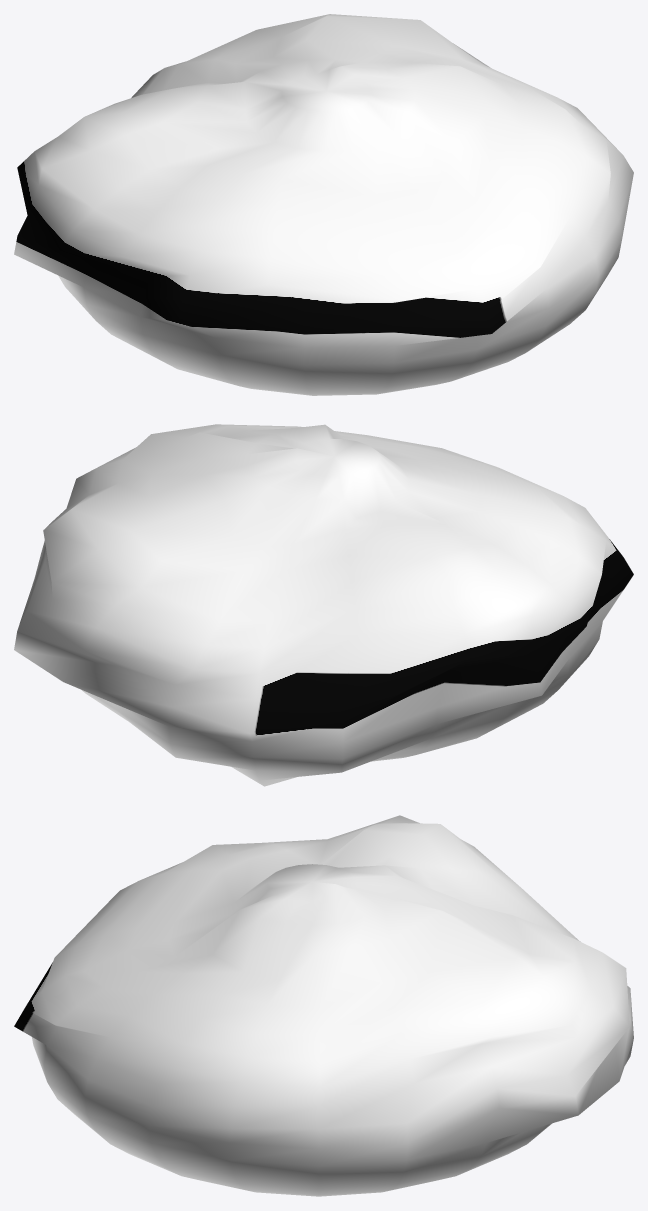
Rendered from catfoodforbowl.fbx.
The picture shows the model from 3 angles, top to bottom: view 1: azimuth 30°, elevation 25°; view 2: azimuth 150°, elevation 25°; view 3: azimuth 270°, elevation 25°; orthographic projection.
Visible parts, largest first — view 1: pSphere1; view 2: pSphere1; view 3: pSphere1.
Boxes of the visible parts, x1,y1,x2,y2 form: pSphere1: (14, 14, 633, 395); pSphere1: (14, 424, 633, 786); pSphere1: (14, 815, 633, 1196).
Bounding box in the file's own units: 28.4 × 13.81 × 28.97.
